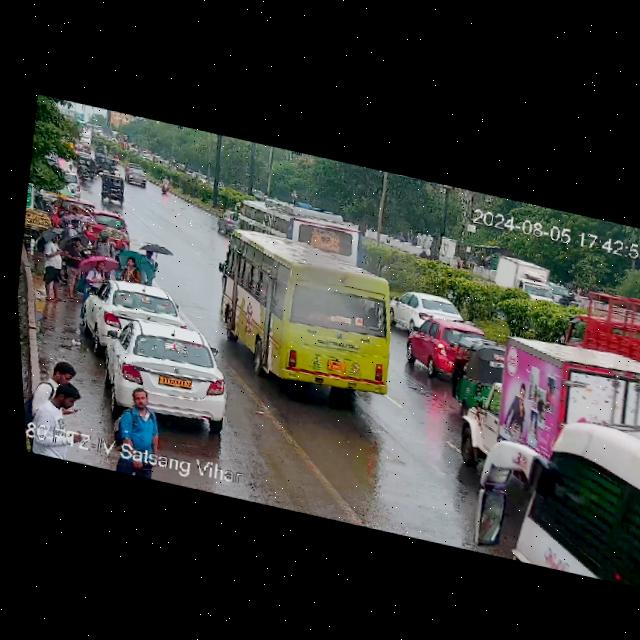bus: (207, 220, 415, 408), (463, 397, 640, 590), (224, 191, 372, 272)
car: (91, 312, 239, 431), (403, 310, 509, 394), (81, 273, 189, 351), (450, 334, 512, 412), (389, 285, 471, 338), (89, 206, 129, 237), (97, 173, 129, 205), (56, 169, 85, 198), (124, 166, 152, 189), (76, 154, 98, 182), (94, 153, 118, 176)
motorcycle: (552, 276, 591, 313), (214, 206, 240, 237), (156, 176, 178, 198), (77, 162, 91, 183)
person: (61, 202, 93, 236), (66, 164, 76, 173)
truck: (447, 320, 640, 505), (558, 279, 640, 363), (105, 382, 169, 481), (21, 353, 80, 431), (33, 376, 90, 437), (493, 256, 556, 304), (36, 230, 73, 304), (59, 232, 91, 305), (76, 257, 107, 313), (91, 229, 119, 261), (140, 249, 161, 288), (120, 256, 142, 286), (66, 218, 85, 238), (51, 206, 66, 229), (70, 206, 79, 215)
